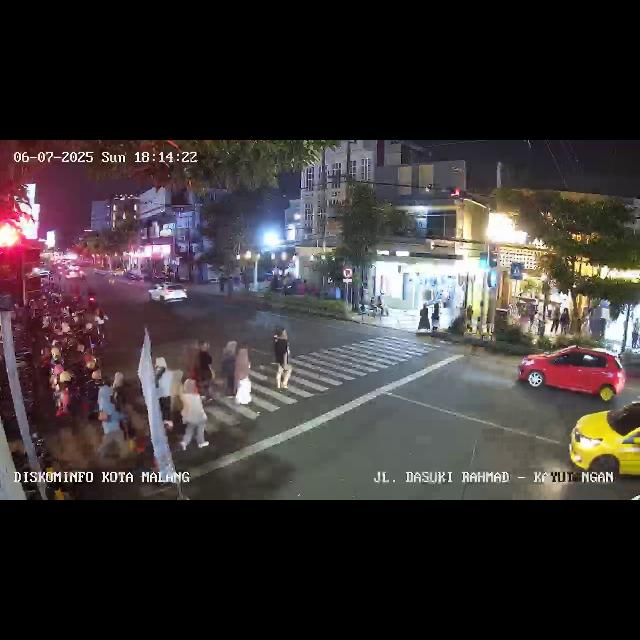car: (566, 400, 640, 496), (516, 344, 628, 404), (146, 282, 190, 306), (66, 264, 86, 280)
person: (178, 378, 208, 450), (95, 385, 121, 465), (230, 342, 256, 412), (154, 353, 172, 427), (270, 326, 290, 386), (197, 342, 216, 401), (171, 368, 185, 442), (222, 340, 238, 398), (92, 308, 108, 344), (558, 304, 570, 336), (418, 302, 430, 334), (431, 299, 442, 333), (537, 306, 547, 338), (550, 304, 560, 336), (526, 305, 534, 339), (599, 312, 607, 344), (632, 324, 640, 346), (218, 274, 226, 294)
